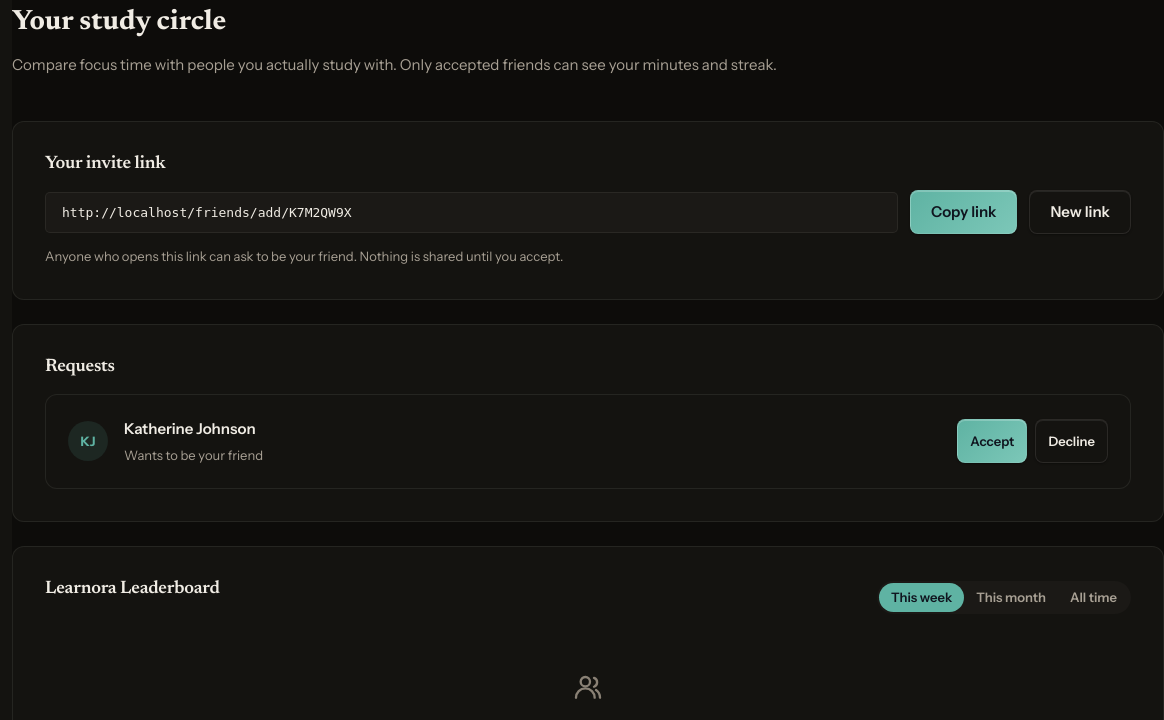
Test: FriendsView › accepts an incoming request and sends the friendship id
The image size is (1164, 720).
Click the button "Accept": (992, 441) [957,419,1027,463]
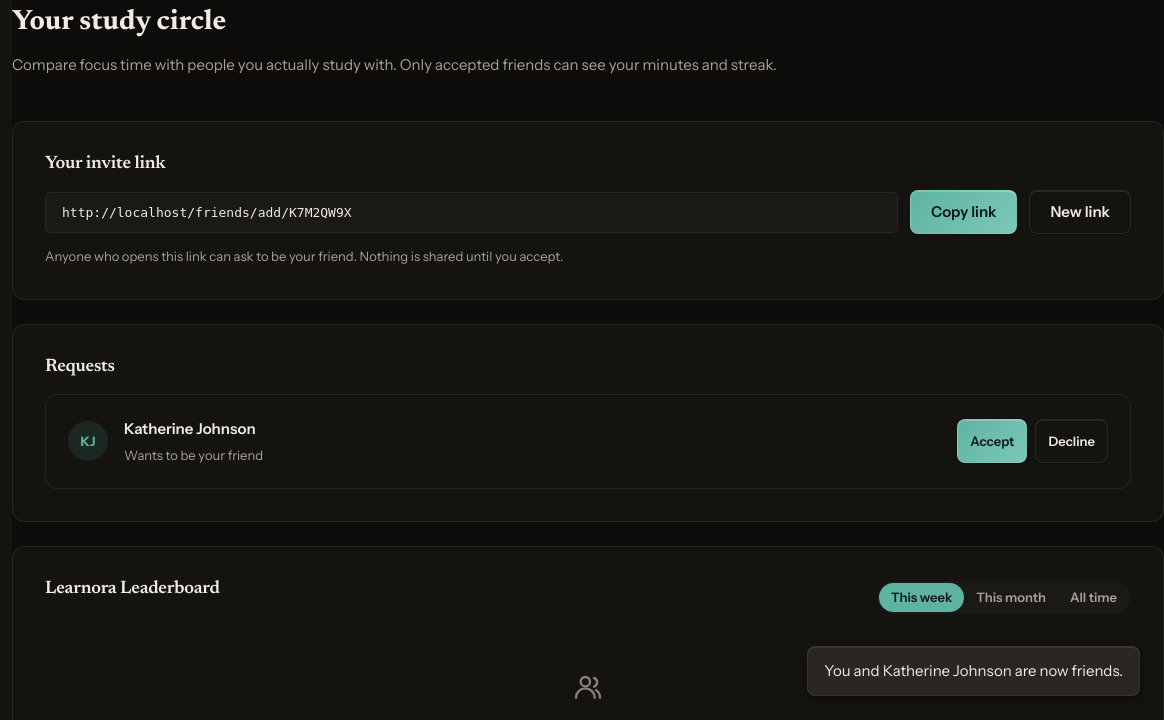
Result: the text "You and Katherine Johnson are now friends." is shown at [824,659,1123,683]
